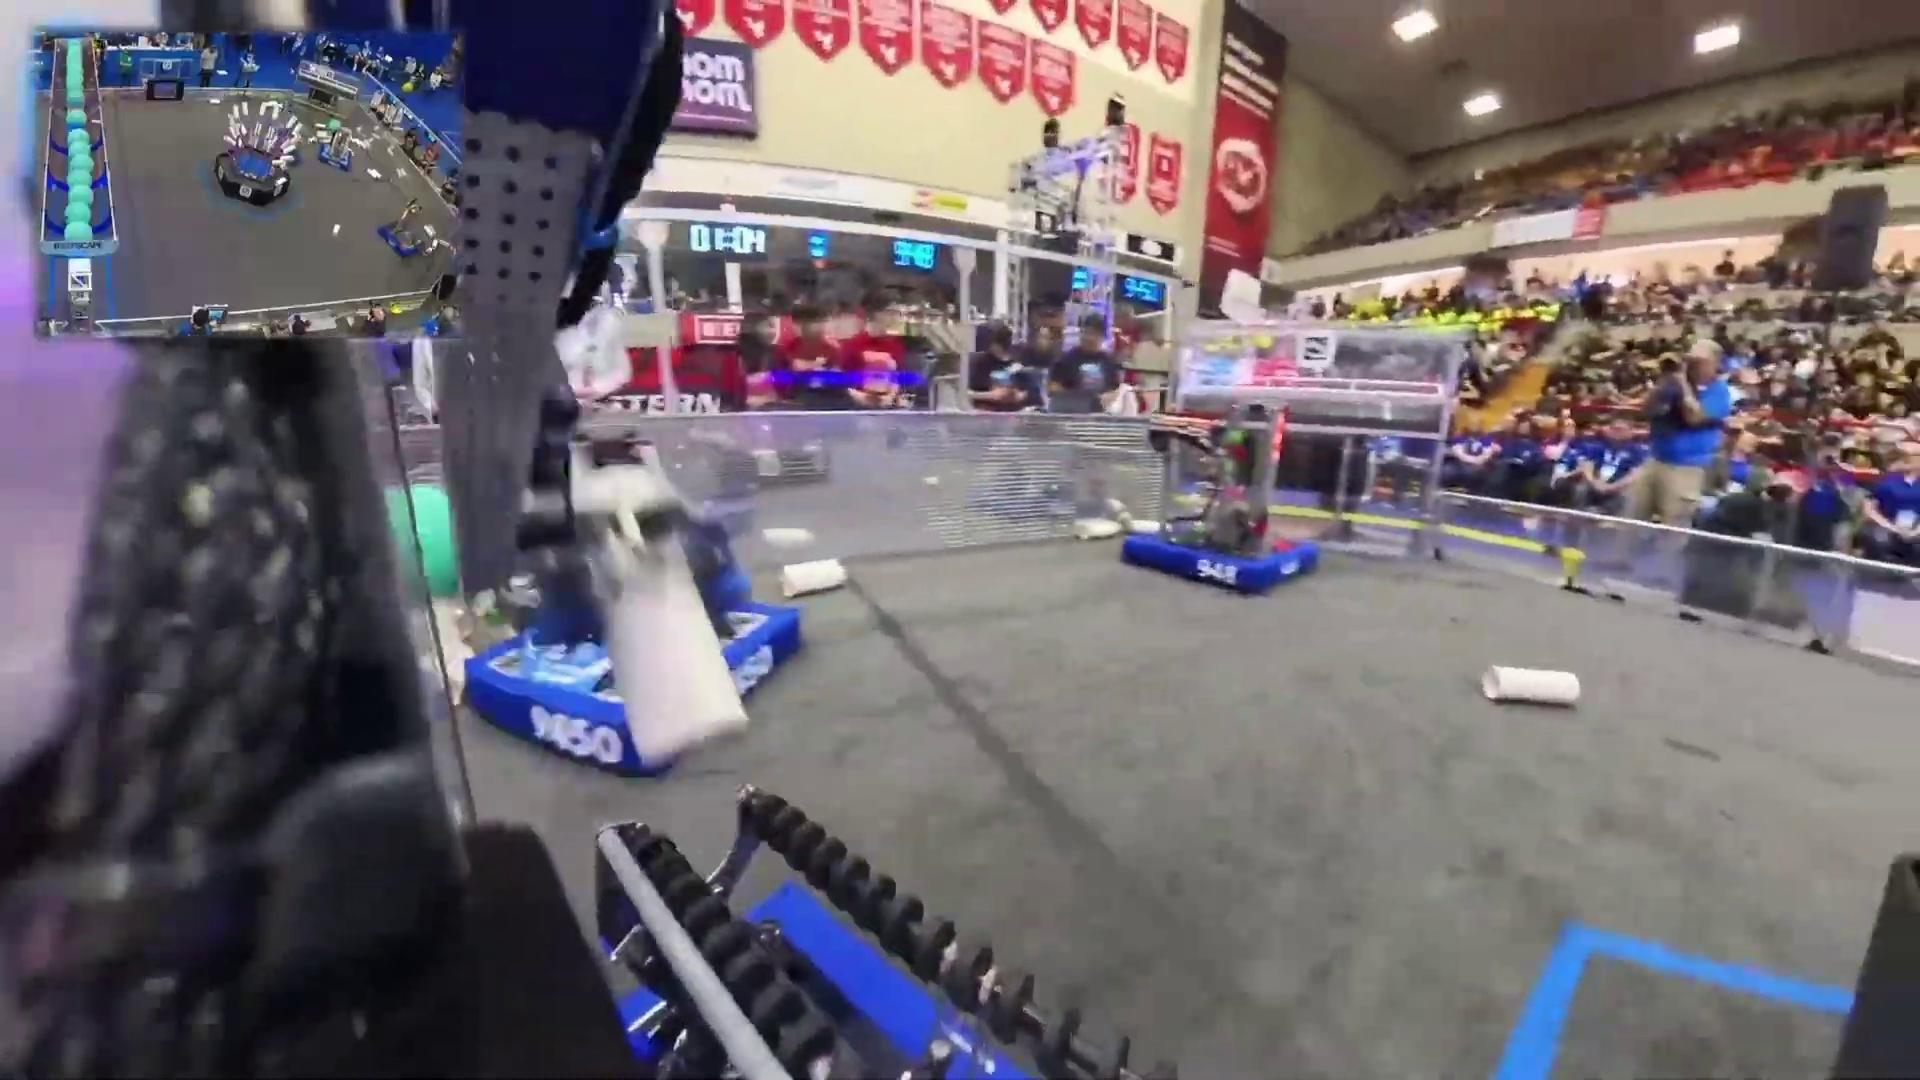robot: (463, 413, 804, 782), (1120, 396, 1319, 593), (375, 196, 433, 257), (316, 125, 359, 171)
